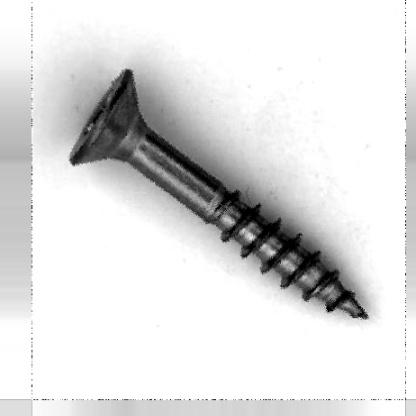metal: (68, 67, 369, 320)
